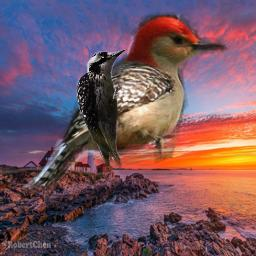Woodpecker: (22, 11, 232, 194), (72, 43, 131, 173)
